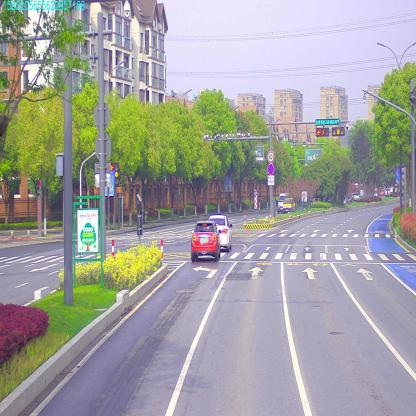traffic-light: (316, 116, 340, 124), (317, 126, 328, 137), (332, 127, 344, 136)
